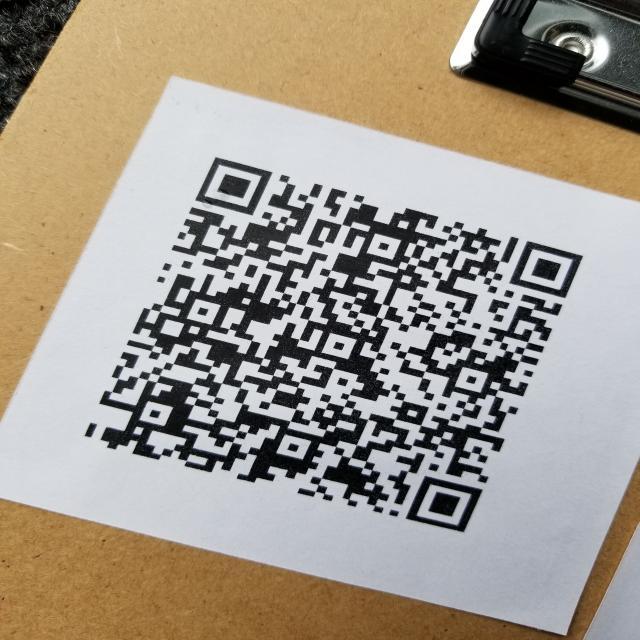QR_CODE: (74, 139, 599, 553)
